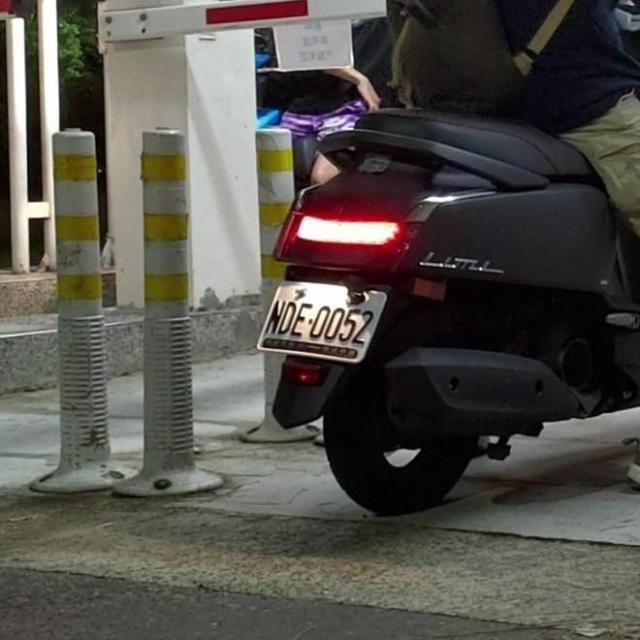W: (255, 266, 391, 366)
